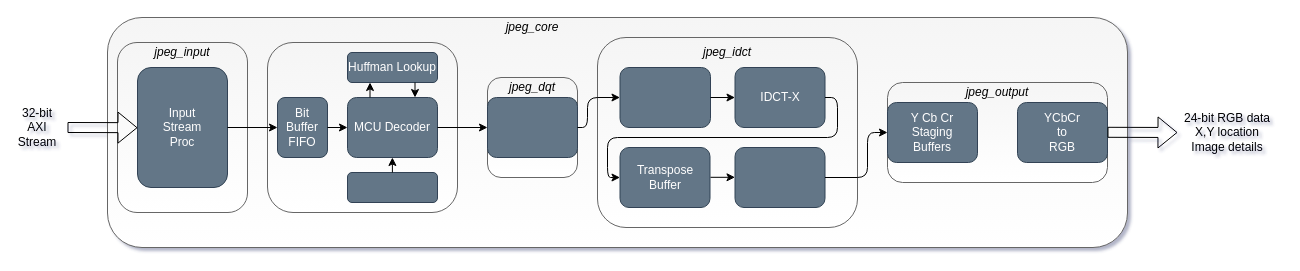
The diagram is 1300 pixels wide and 271 high, and some of its shapes have lost their labels. Here are the shapes that lost their labels. From the top down, the centre of each, then its label:
[664,97]: IDCT Input Buffer
[532,127]: DQT / De-zigzag
[392,187]: MCU ID Gen
[779,177]: IDCT-Y
